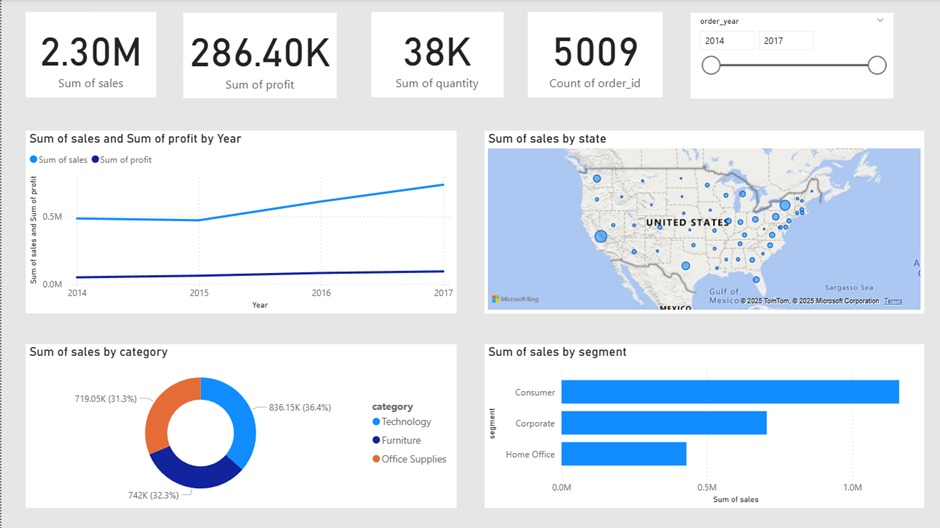

Layout of this report page (visuals, bound fields, positions):
{"tool":"powerbi","page":{"name":"Executive Summary","canvas":[1280,720],"ordinal":0},"visuals":[{"type":"card","fields":{"Values":["Sum(cleaned_superstore.sales)"]},"box":[33,17.1,177.3,116.2],"z":0},{"type":"card","fields":{"Values":["Sum(cleaned_superstore.quantity)"]},"box":[502.6,17.1,179.8,116.2],"z":1000},{"type":"card","fields":{"Values":["Sum(cleaned_superstore.profit)"]},"box":[247,18.3,209.1,116.2],"z":2000},{"type":"card","fields":{"Values":["Count(cleaned_superstore.order_id)"]},"box":[715.4,17.1,183.4,116.2],"z":3000},{"type":"lineChart","fields":{"Category":["cleaned_superstore.order_date.Variation.Date Hierarchy.Year","cleaned_superstore.order_date.Variation.Date Hierarchy.Quarter","cleaned_superstore.order_date.Variation.Date Hierarchy.Month","cleaned_superstore.order_date.Variation.Date Hierarchy.Day"],"Y":["Sum(cleaned_superstore.sales)","Sum(cleaned_superstore.profit)"]},"box":[33,178.5,585.7,248.2],"z":4000},{"type":"map","fields":{"Category":["cleaned_superstore.state"],"Size":["Sum(cleaned_superstore.sales)"]},"box":[656.7,178.5,598,248.2],"z":5000},{"type":"donutChart","fields":{"Category":["cleaned_superstore.category"],"Y":["Sum(cleaned_superstore.sales)"]},"box":[33,468.3,585.7,222.6],"z":6000},{"type":"clusteredBarChart","fields":{"Category":["cleaned_superstore.segment"],"Y":["Sum(cleaned_superstore.sales)"]},"box":[656.7,468.3,598,222.6],"z":7000},{"type":"slicer","fields":{"Values":["cleaned_superstore.order_year"]},"box":[936.7,18.3,275.1,116.2],"z":8000}]}

Visuals, with their boxes in screenshot pixels (x1, y1, x2, y2), scaled from the page's 1280x720 canvas onto the 940x528 screenshot:
card - Sum(cleaned_superstore.sales): 24,13,154,98
card - Sum(cleaned_superstore.quantity): 369,13,501,98
card - Sum(cleaned_superstore.profit): 181,13,335,99
card - Count(cleaned_superstore.order_id): 525,13,660,98
lineChart - cleaned_superstore.order_date.Variation.Date Hierarchy.Year x cleaned_superstore.order_date.Variation.Date Hierarchy.Quarter: 24,131,454,313
map - cleaned_superstore.state x Sum(cleaned_superstore.sales): 482,131,921,313
donutChart - cleaned_superstore.category x Sum(cleaned_superstore.sales): 24,343,454,507
clusteredBarChart - cleaned_superstore.segment x Sum(cleaned_superstore.sales): 482,343,921,507
slicer - cleaned_superstore.order_year: 688,13,890,99
